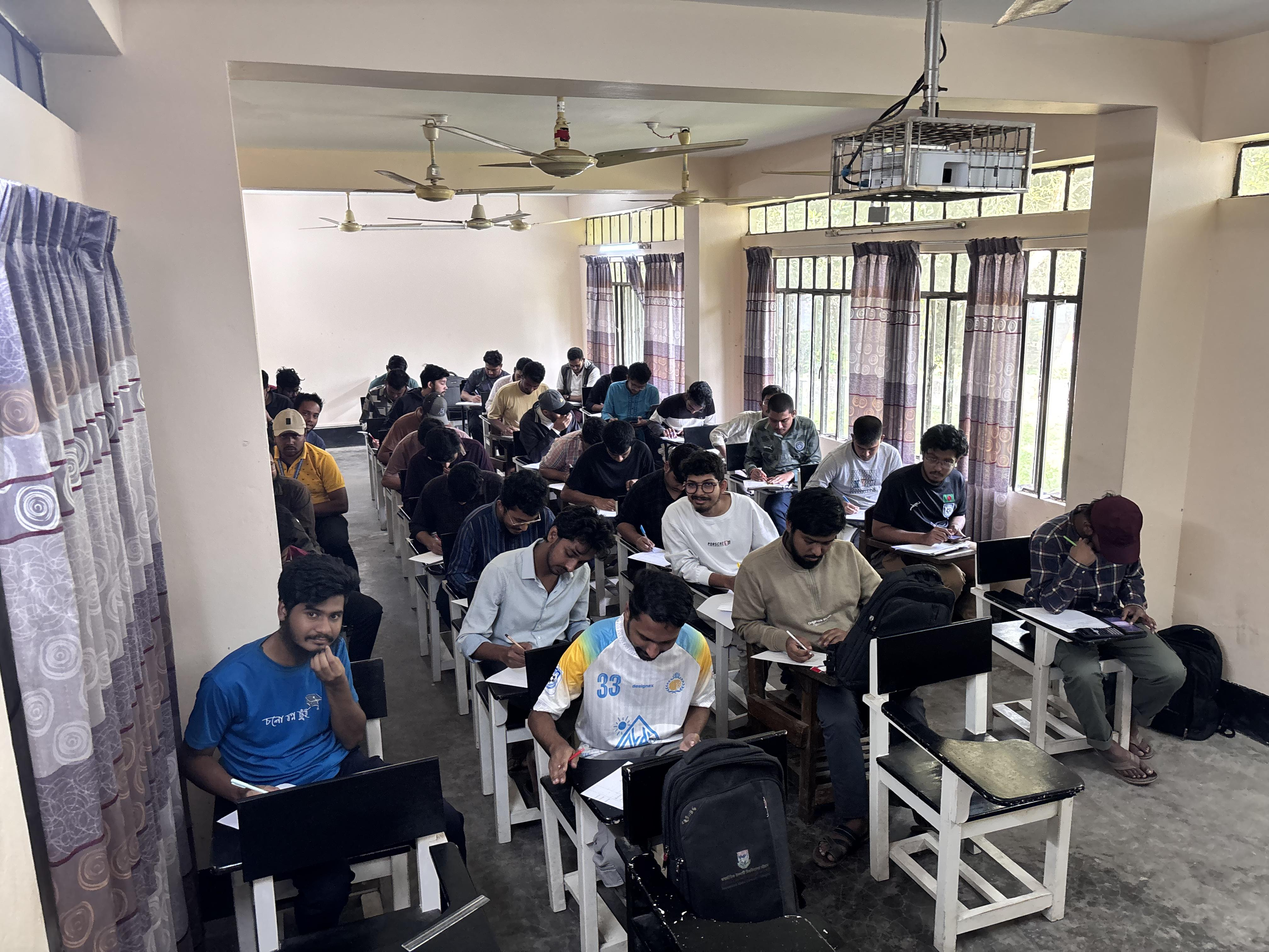copying: (411, 362, 455, 395)
hidden_communication: (517, 388, 582, 440)
no_cheating: (181, 543, 387, 823), (570, 562, 725, 790), (740, 485, 889, 697), (478, 507, 618, 653), (666, 452, 763, 576), (897, 420, 979, 538), (575, 420, 649, 526), (821, 416, 903, 507), (416, 455, 503, 523), (478, 468, 549, 549), (748, 395, 809, 484), (653, 380, 727, 440), (266, 405, 316, 477), (608, 359, 658, 428), (411, 426, 476, 479), (501, 356, 557, 410), (554, 342, 605, 395), (463, 345, 508, 404), (367, 370, 420, 410)
suspicious_moving: (288, 387, 334, 434)
using_phone: (1024, 469, 1183, 705)
